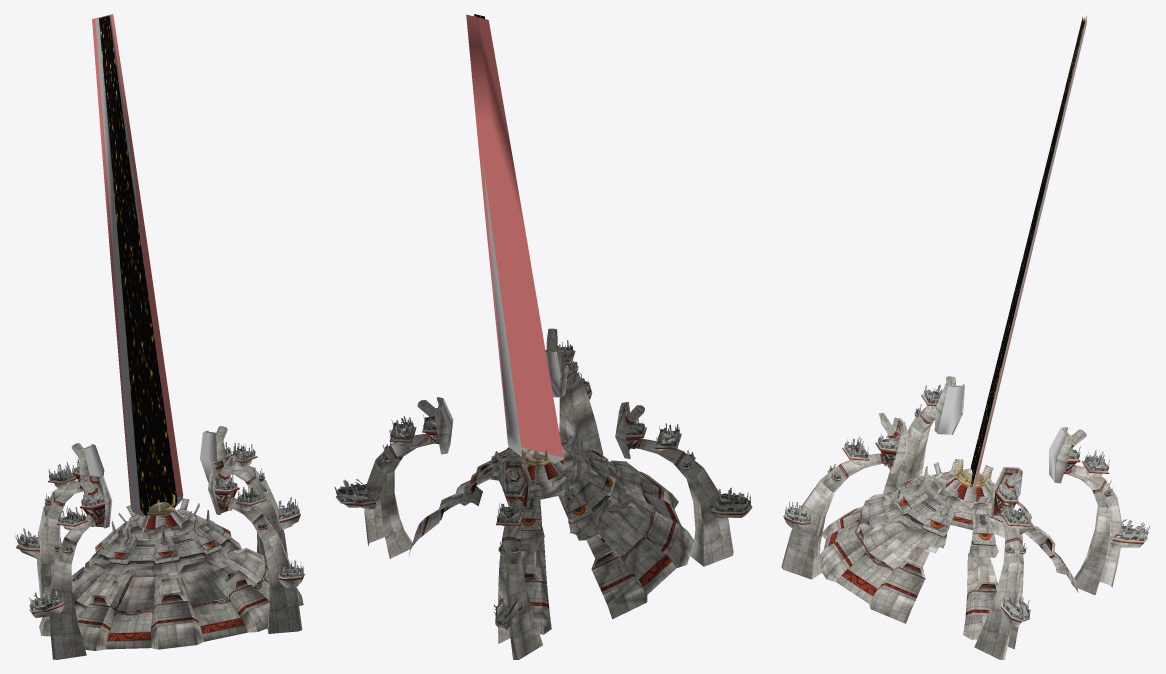
The model's file is MotTractor.obj.
3 renders of one model, left to right at view 1: azimuth 30°, elevation 25°; view 2: azimuth 150°, elevation 25°; view 3: azimuth 270°, elevation 25°, orthographic. The views are drawn at different scales.
Parts seen in each view (by area): view 1: polygon1, polygon0, polygon6, polygon5, polygon2, polygon8, polygon3, polygon10, polygon11, polygon9; view 2: polygon1, polygon8, polygon0, polygon3, polygon2, polygon5, polygon10, polygon11; view 3: polygon1, polygon0, polygon3, polygon2, polygon5, polygon6, polygon10, polygon11, polygon8.
Part boxes in pixels (x1,y1,x2,y2): polygon1: (16, 460, 304, 659); polygon0: (16, 426, 303, 649); polygon6: (99, 16, 177, 515); polygon5: (84, 15, 215, 526); polygon2: (43, 467, 277, 633); polygon8: (92, 14, 183, 508); polygon3: (14, 442, 303, 611); polygon10: (122, 509, 199, 538); polygon11: (145, 494, 177, 529); polygon9: (118, 498, 199, 527); polygon1: (335, 365, 752, 659); polygon8: (466, 14, 563, 457); polygon0: (342, 328, 751, 630); polygon3: (334, 340, 750, 626); polygon2: (375, 365, 703, 578); polygon5: (440, 162, 621, 502); polygon10: (498, 445, 582, 496); polygon11: (521, 449, 563, 480); polygon1: (781, 404, 1147, 659); polygon0: (783, 376, 1144, 627); polygon3: (785, 384, 1150, 620); polygon2: (820, 406, 1117, 588); polygon5: (895, 16, 1086, 489); polygon6: (970, 17, 1084, 487); polygon10: (928, 470, 994, 514); polygon11: (946, 460, 989, 501); polygon8: (975, 15, 1086, 485).
Bounding box in the file's own units: 65.48 × 111 × 62.66.
